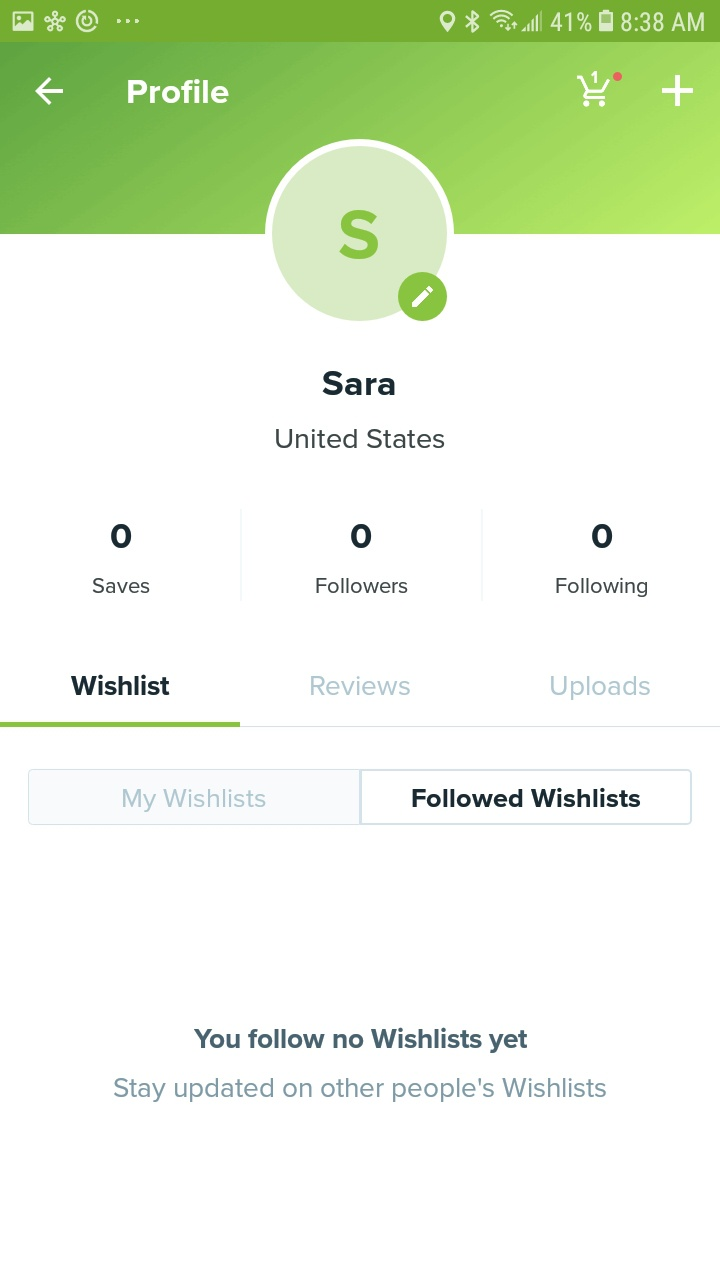Icon: (398, 272, 448, 322), (576, 72, 622, 109), (662, 76, 694, 108), (35, 78, 64, 107)
Image: (265, 139, 455, 322)
Text: (114, 1077, 607, 1103), (194, 1027, 528, 1054), (276, 429, 445, 449), (128, 79, 230, 105), (550, 676, 650, 701), (72, 674, 171, 696), (311, 676, 411, 696), (556, 577, 648, 598), (323, 371, 396, 396), (316, 578, 408, 594), (94, 578, 151, 594), (351, 524, 372, 549), (592, 524, 613, 549), (111, 524, 132, 549)
TextButton: (29, 769, 361, 826), (361, 769, 692, 826)
UpperTaskBar: (1, 1, 720, 43)
